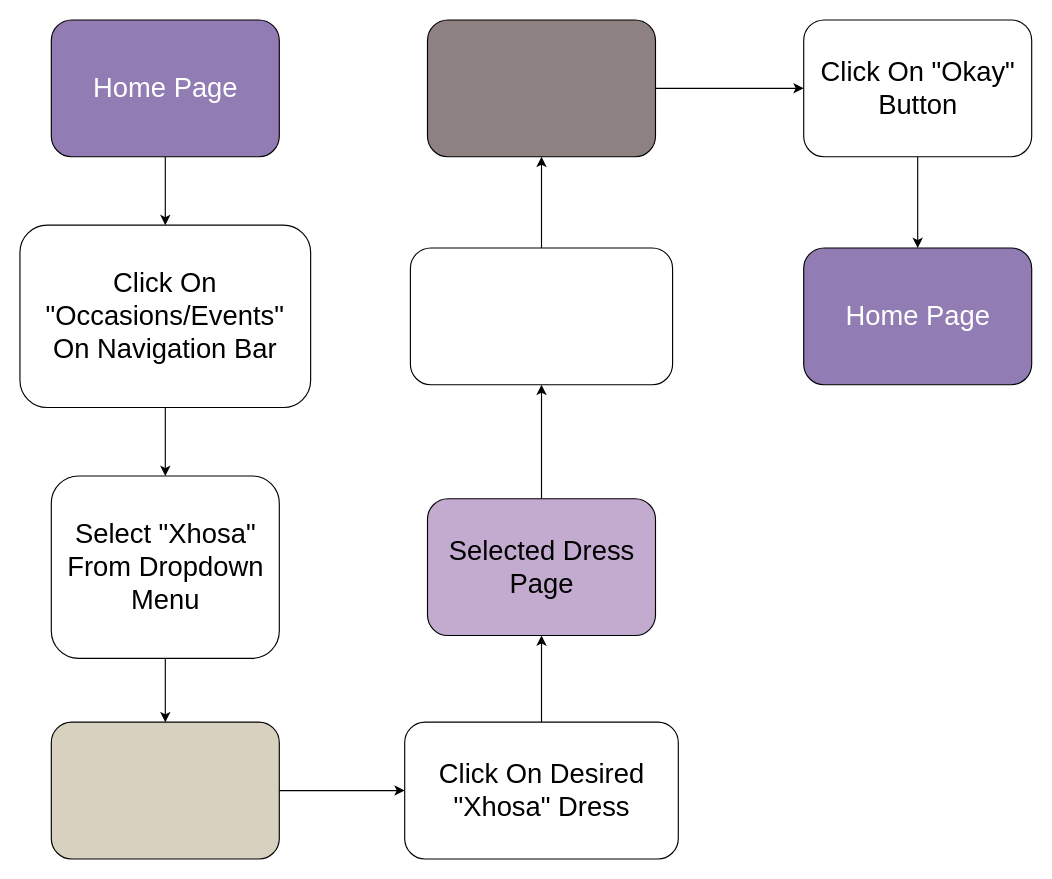
Some shapes in this 1052 by 879 pixel diagram are drawn without their labels. Each missing label, with the centre of its shape:
Browse Page: the point at 164,790
Click On "Talk To Someone" Button: the point at 541,316
Share Contact Details Page: the point at 541,88
